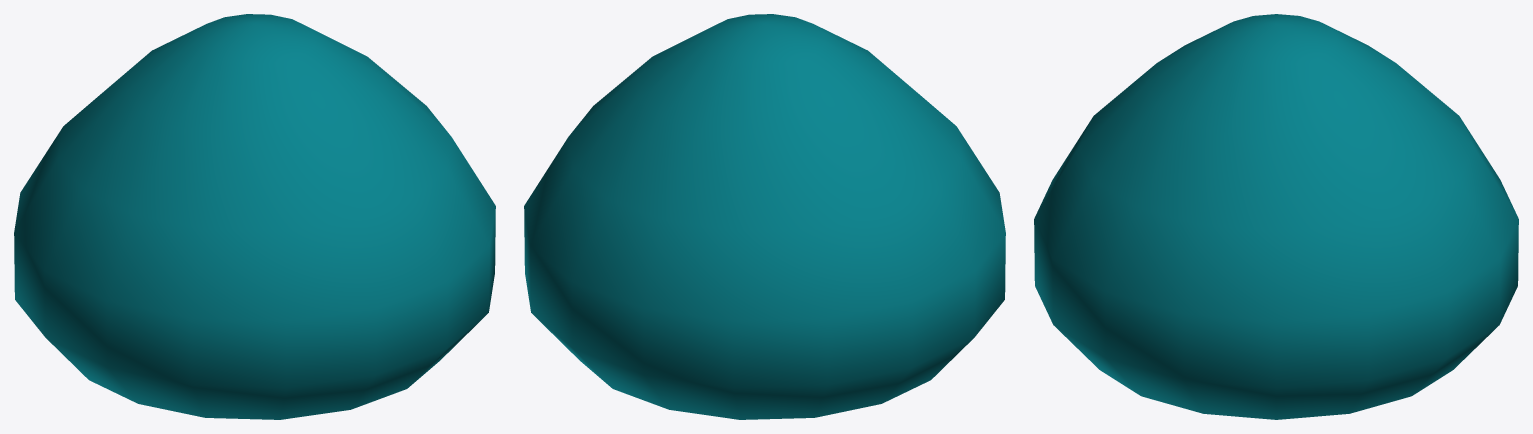
Rendered from Enemy_02.FBX.
3 views of the same model, side by side, from view 1: azimuth 30°, elevation 25°; view 2: azimuth 150°, elevation 25°; view 3: azimuth 270°, elevation 25° (orthographic).
Parts seen in each view (by area): view 1: Sphere001; view 2: Sphere001; view 3: Sphere001.
Part boxes in pixels (x1,y1,x2,y2): Sphere001: (14, 14, 495, 419); Sphere001: (524, 14, 1005, 419); Sphere001: (1034, 14, 1518, 419).
Size of the model in its own units: 0.8107 by 0.6655 by 0.8107.
